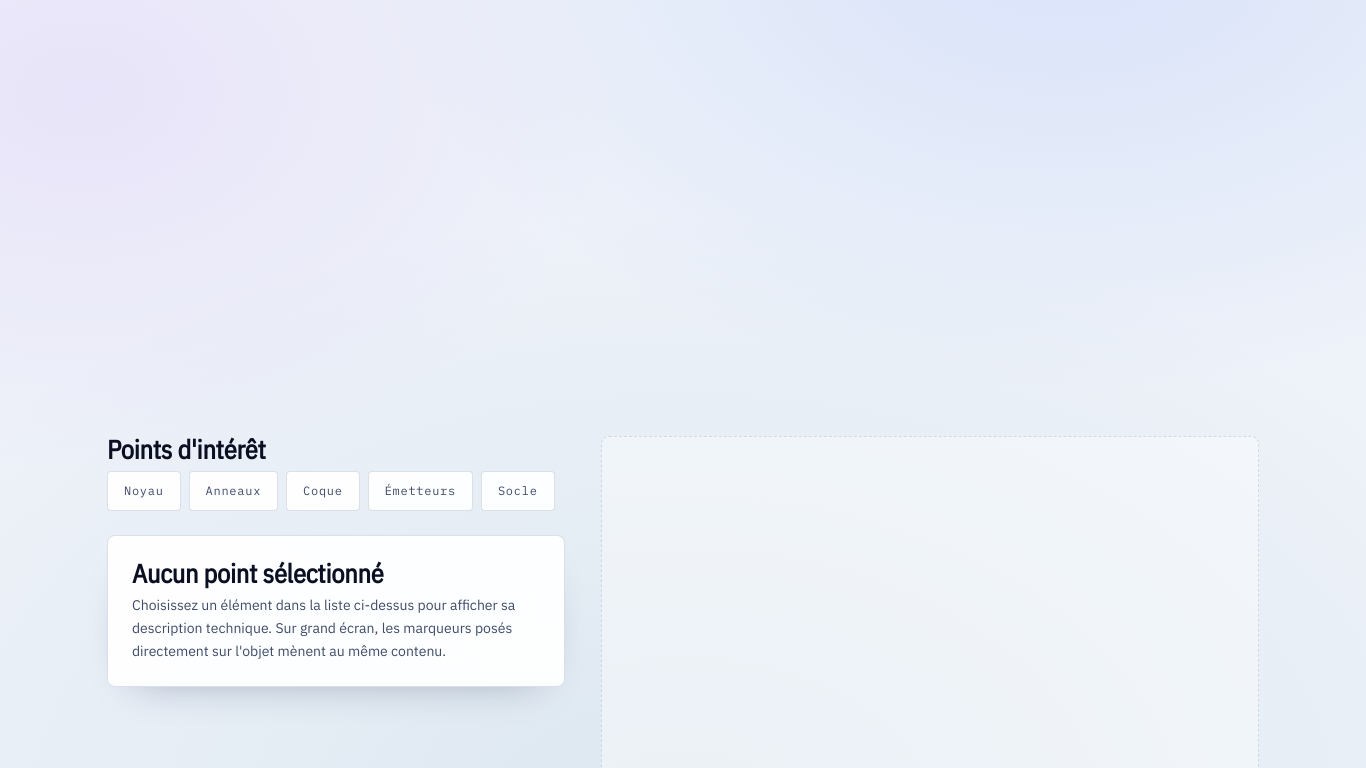
Test case: InteractiveSection › déselectionne un point déjà actif
Step 1. Click the button with test id "hotspot-core" → (144, 491), box [107,471,181,511]
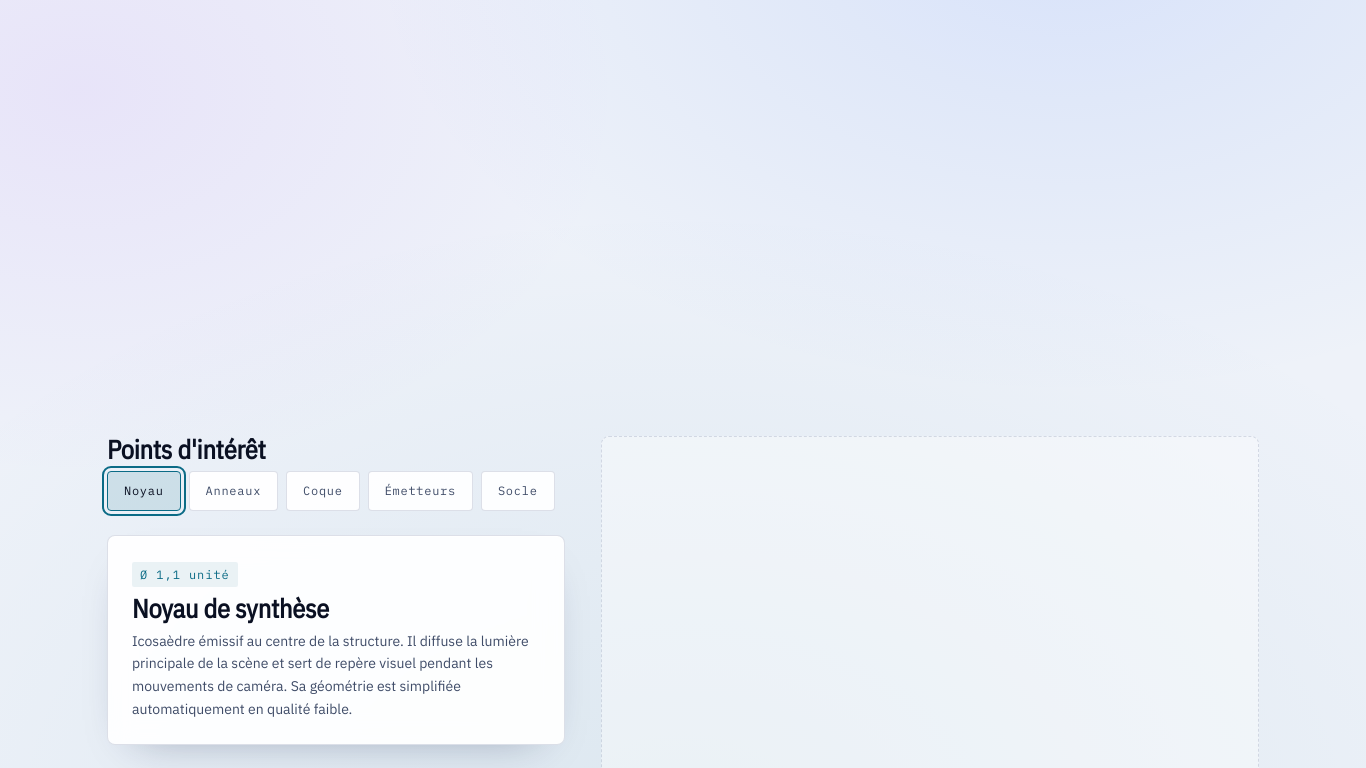
Step 2. Click the button with test id "hotspot-core" → (144, 491), box [107,471,181,511]
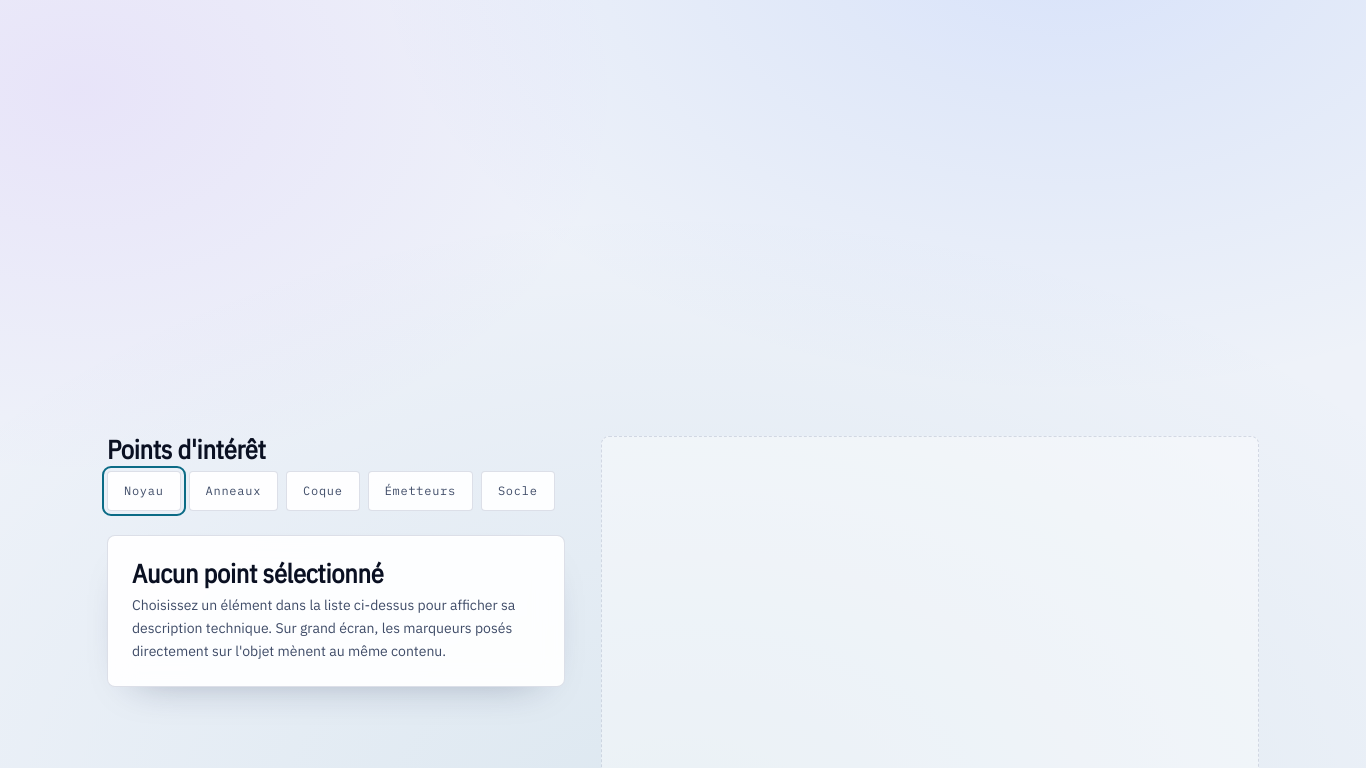
expect the heading "Aucun point sélectionné" is shown: met, box [132,556,383,590]
